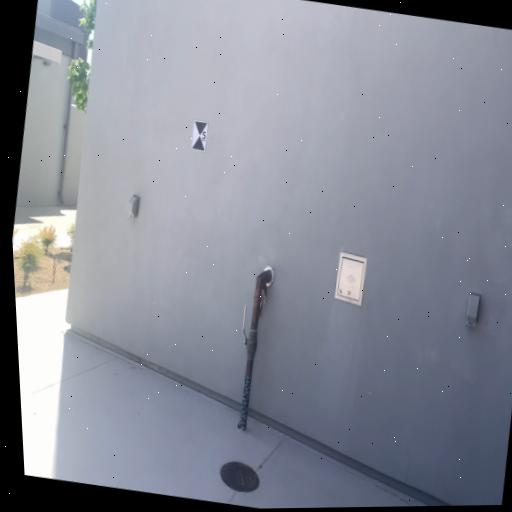target5: (189, 119, 210, 151)
